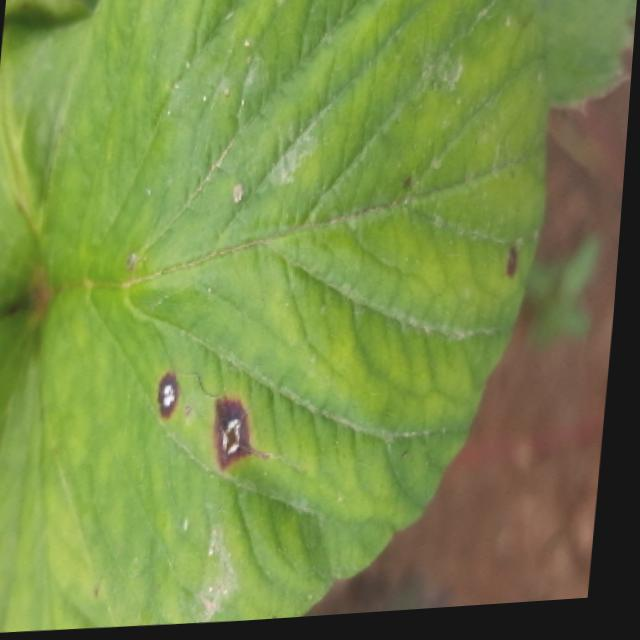Leaf Spot: (45, 0, 551, 629), (530, 0, 638, 121)
